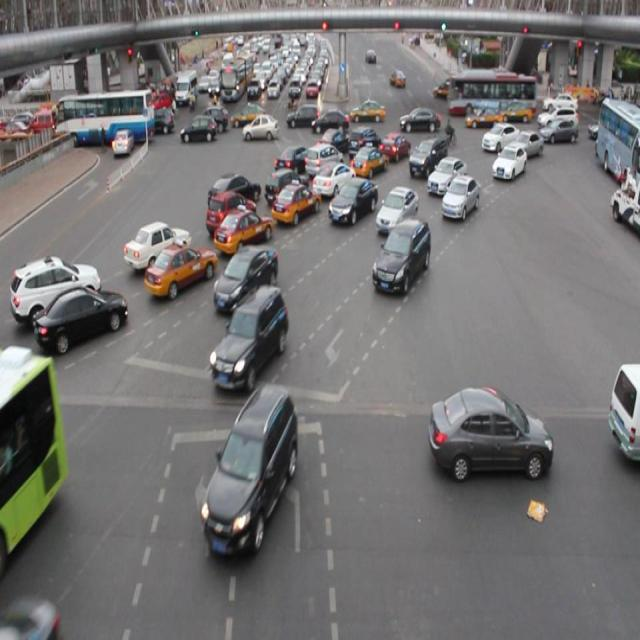car: (203, 386, 298, 555), (429, 386, 551, 477), (213, 286, 286, 386), (10, 256, 101, 322), (35, 286, 128, 346), (371, 218, 430, 292), (213, 247, 277, 314), (144, 242, 215, 294), (124, 221, 191, 273), (213, 208, 273, 254), (328, 176, 376, 226), (272, 182, 320, 226), (206, 190, 256, 232), (207, 173, 261, 209), (376, 186, 417, 232), (263, 168, 310, 207), (441, 174, 479, 218), (426, 155, 465, 197), (312, 162, 355, 198), (349, 142, 388, 180), (408, 137, 446, 176), (346, 126, 382, 162), (491, 144, 524, 182), (480, 122, 519, 154), (274, 144, 311, 176), (314, 127, 350, 157), (378, 130, 410, 162), (509, 130, 542, 158)
truck: (606, 364, 640, 459), (304, 143, 344, 179)
van: (0, 348, 64, 568)
